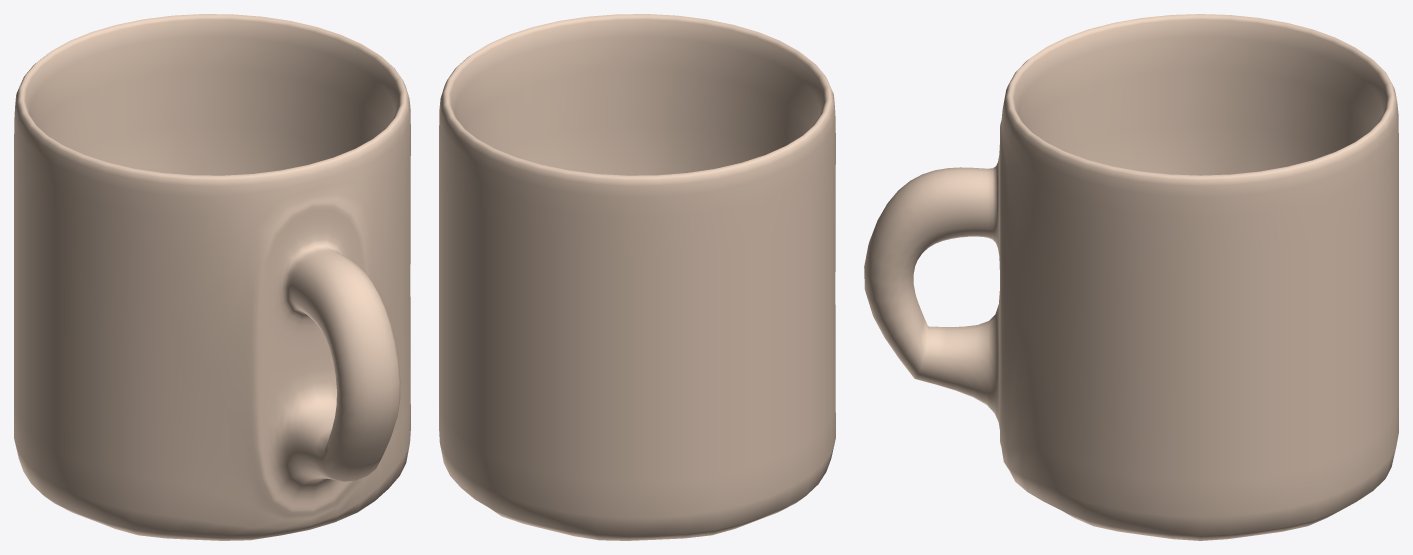
Rendered from mug.obj.
The picture shows the model from 3 angles, left to right: view 1: azimuth 30°, elevation 25°; view 2: azimuth 150°, elevation 25°; view 3: azimuth 270°, elevation 25°; orthographic projection.
Parts seen in each view (by area): view 1: pCylinder1; view 2: pCylinder1; view 3: pCylinder1.
Part boxes in pixels (bbox=[...]): pCylinder1: bbox=[14, 14, 410, 540]; pCylinder1: bbox=[439, 14, 835, 540]; pCylinder1: bbox=[864, 14, 1398, 540].
Size of the model in its own units: 5.64 by 5.96 by 7.6.
